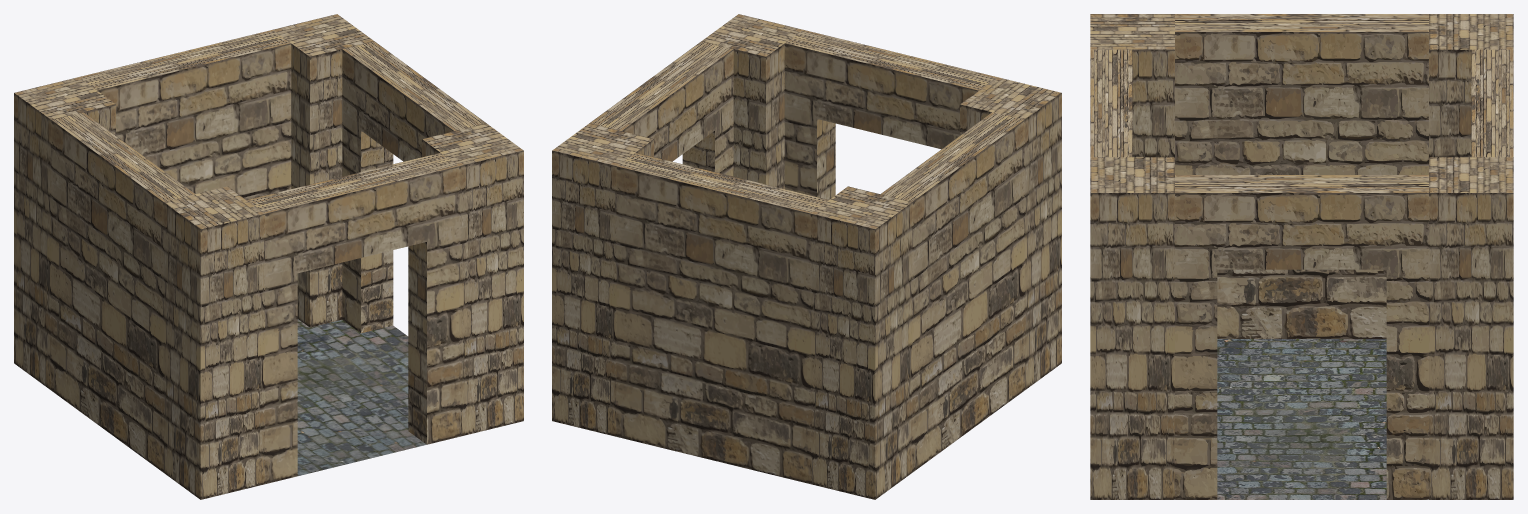
The model's file is 1_1block2doorAdj.fbx.
3 renders of one model, left to right at view 1: azimuth 30°, elevation 25°; view 2: azimuth 150°, elevation 25°; view 3: azimuth 270°, elevation 25°, orthographic. The views are drawn at different scales.
Parts seen in each view (by area): view 1: Cube_1, Plane; view 2: Cube_1; view 3: Cube_1, Plane.
Part boxes in pixels (<box>): Cube_1: <box>14,14,523,499</box>; Plane: <box>297,319,426,475</box>; Cube_1: <box>552,14,1061,499</box>; Cube_1: <box>1090,14,1513,499</box>; Plane: <box>1217,339,1386,499</box>.
Bounding box in the file's own units: 10 × 8 × 10.
2 materials, 2 textured.
